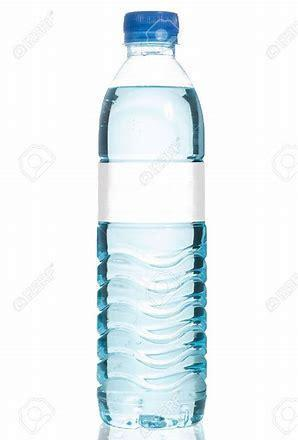bottle: (95, 9, 207, 430)
